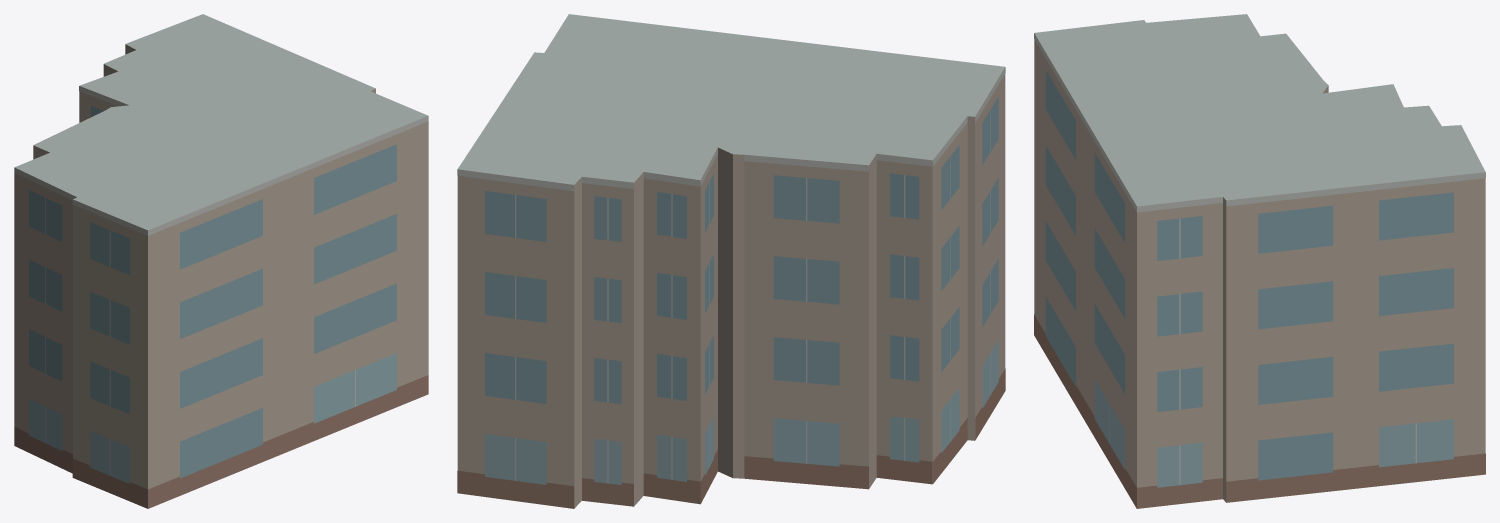
Rendered from survey-upis-32899671.glb.
The picture shows the model from 3 angles, left to right: view 1: azimuth 30°, elevation 25°; view 2: azimuth 150°, elevation 25°; view 3: azimuth 270°, elevation 25°; orthographic projection. The views are drawn at different scales.
Visible parts, largest first — view 1: survey-upis-32899671.tmp; view 2: survey-upis-32899671.tmp; view 3: survey-upis-32899671.tmp.
Part boxes in pixels (<box>): survey-upis-32899671.tmp: <box>14,14,428,508</box>; survey-upis-32899671.tmp: <box>457,14,1005,508</box>; survey-upis-32899671.tmp: <box>1034,14,1485,508</box>.
Bounding box in the file's own units: 16.95 × 12.4 × 16.8.
